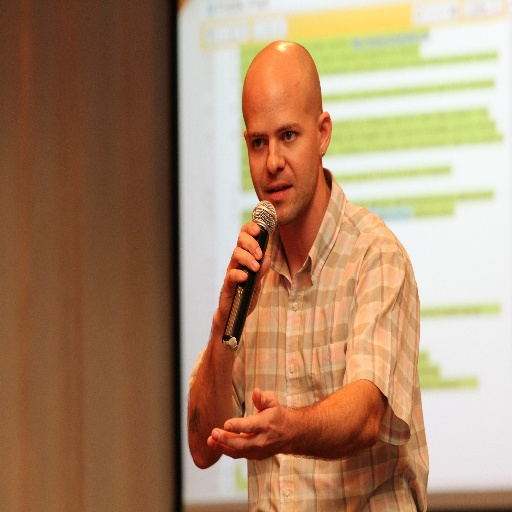hand: (212, 233, 278, 376), (206, 385, 291, 460)
